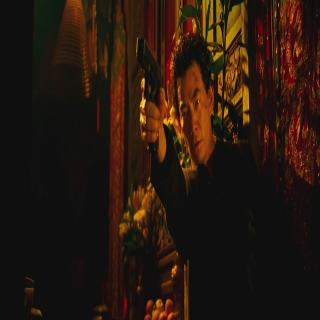gun: (134, 31, 166, 148)
